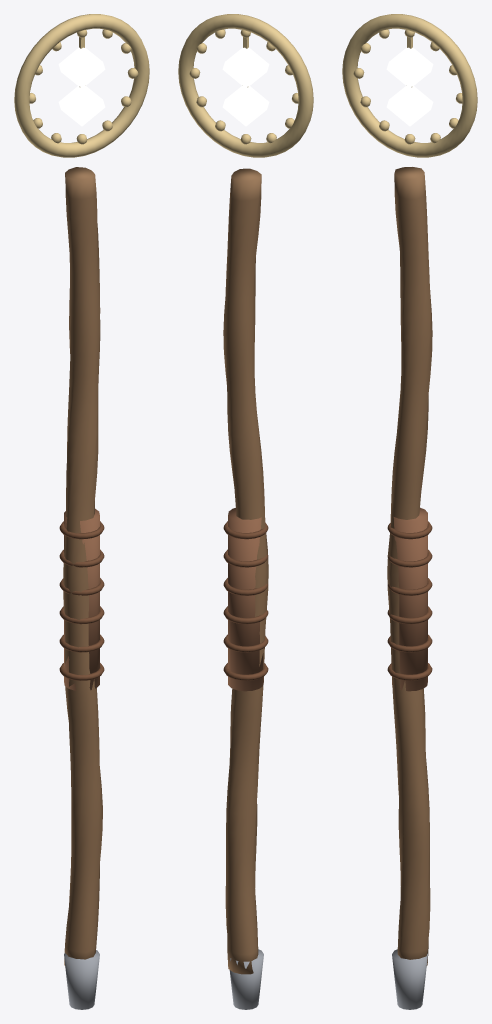
The model's file is cajado-tempo-490.glb.
The picture shows the model from 3 angles, left to right: view 1: azimuth 30°, elevation 25°; view 2: azimuth 150°, elevation 25°; view 3: azimuth 330°, elevation 25°; orthographic projection.
Parts seen in each view (by area): view 1: cajado-tempo; view 2: cajado-tempo; view 3: cajado-tempo.
Boxes of the visible parts, x1,y1,x2,y2 form: cajado-tempo: [14, 14, 149, 1009]; cajado-tempo: [178, 14, 313, 1009]; cajado-tempo: [342, 14, 477, 1009].
Size of the model in its own units: 0.222 by 1.57 by 0.07.
